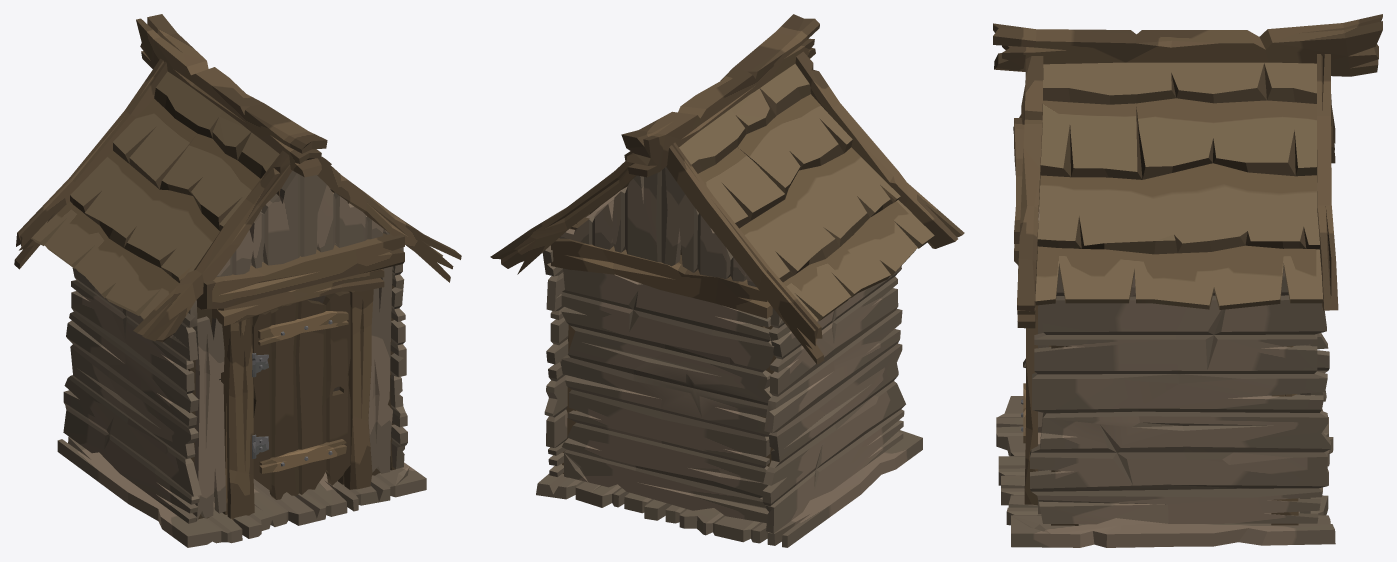
Rendered from ud_bld_forge.gltf.
3 renders of one model, left to right at view 1: azimuth 30°, elevation 25°; view 2: azimuth 150°, elevation 25°; view 3: azimuth 270°, elevation 25°, orthographic. The views are drawn at different scales.
Parts seen in each view (by area): view 1: ud_bld_forge; view 2: ud_bld_forge; view 3: ud_bld_forge.
Part boxes in pixels (left/top/right/bottom): ud_bld_forge: left=14, top=14, right=461, bottom=547; ud_bld_forge: left=490, top=14, right=964, bottom=547; ud_bld_forge: left=993, top=14, right=1382, bottom=547.
Size of the model in its own units: 3.75 by 4.34 by 3.35.
1 material, 1 textured.
